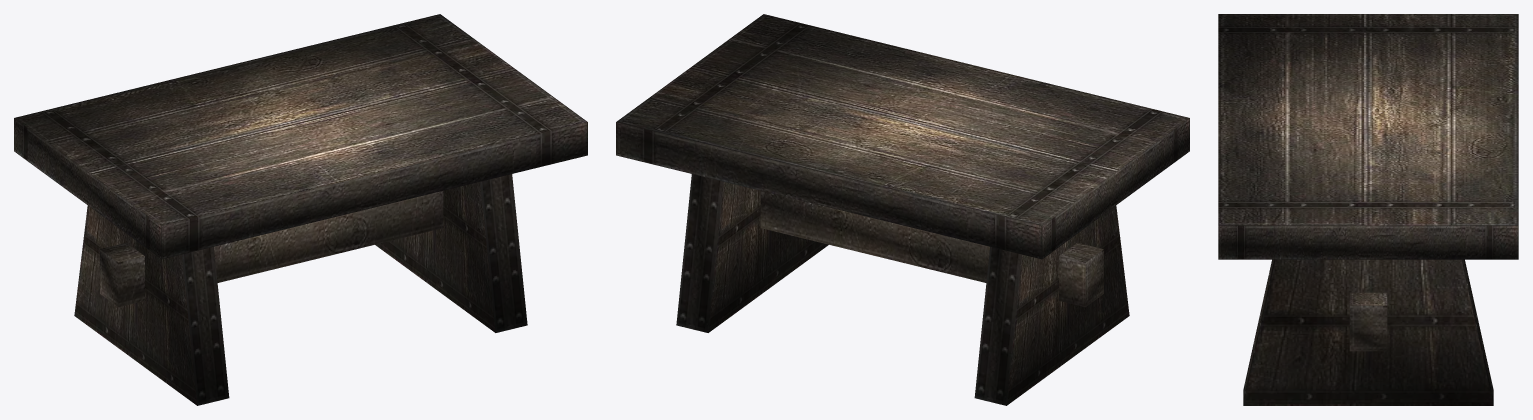
The model's file is NW_CITY_TABLE_PEASANT_01.glb.
3 renders of one model, left to right at view 1: azimuth 30°, elevation 25°; view 2: azimuth 150°, elevation 25°; view 3: azimuth 270°, elevation 25°, orthographic.
Parts seen in each view (by area): view 1: Mesh; view 2: Mesh; view 3: Mesh.
Boxes of the visible parts, x1,y1,x2,y2 form: Mesh: (14, 14, 587, 405); Mesh: (616, 14, 1189, 405); Mesh: (1218, 14, 1518, 405).
Bounding box in the file's own units: 2 × 0.9 × 1.2.
1 material, 1 textured.
